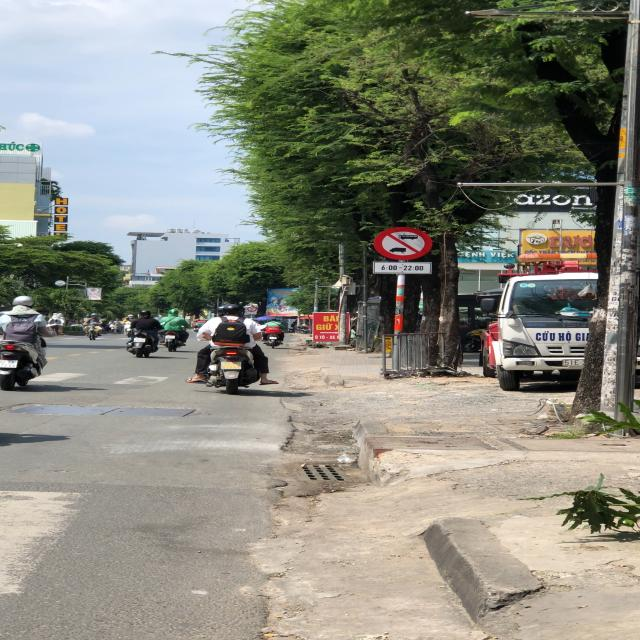Bien bao cam xe oto khach va xe oto tai: (371, 224, 435, 262)
